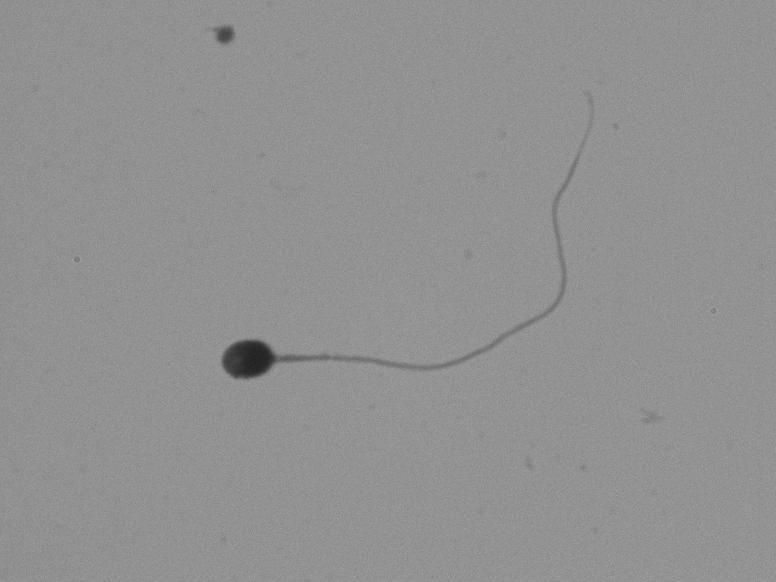Normal: (163, 186, 624, 421)
